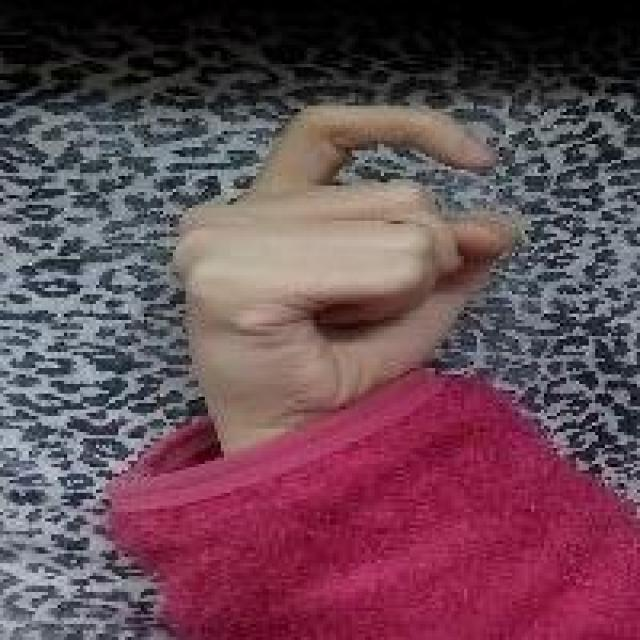X: (163, 91, 509, 392)
